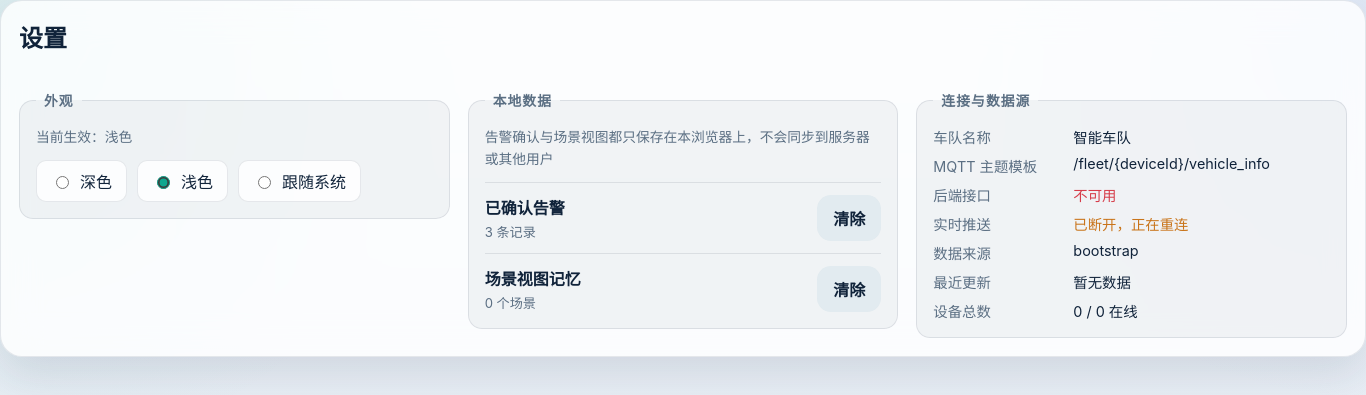
SettingsView local data › reports and clears acknowledged alerts
Click the button "清除" in the row of "已确认告警". click: {"x": 849, "y": 218}
box: [817, 195, 881, 241]
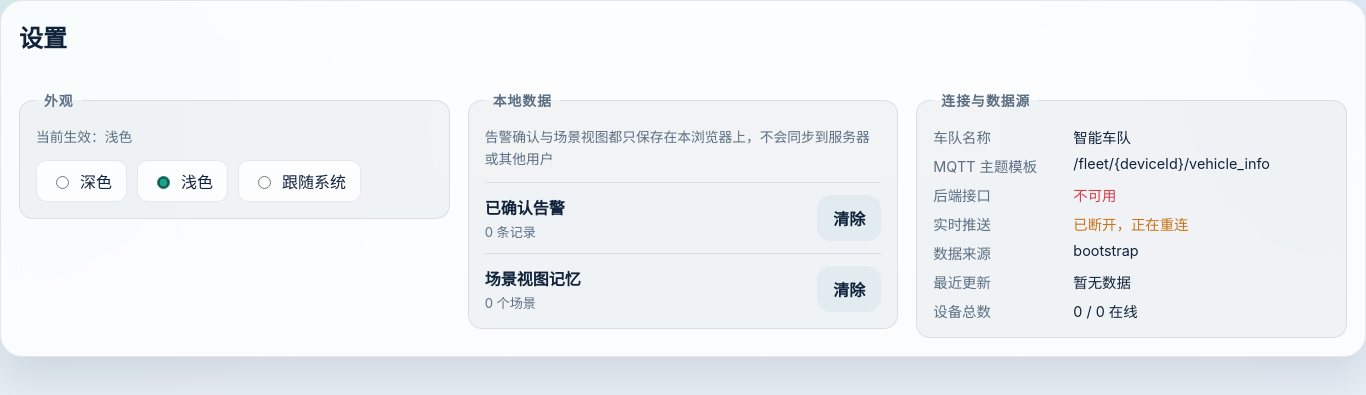
expect the text "0 条记录" is shown: met, box [485, 224, 536, 240]
